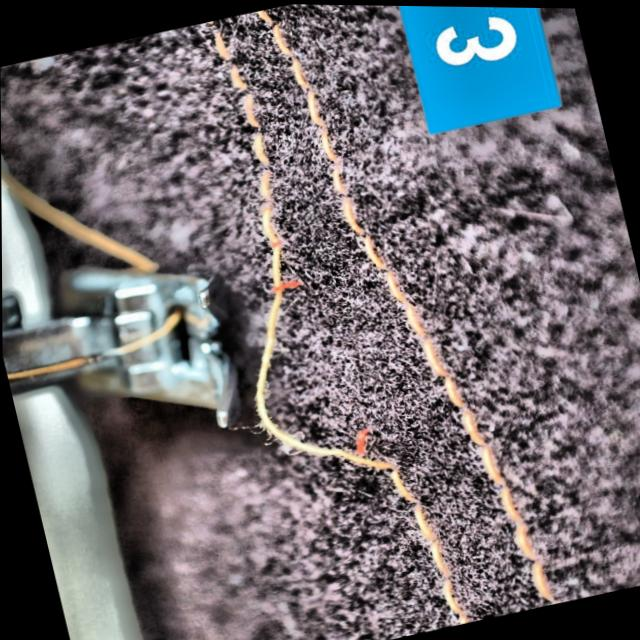Stitch: (211, 224, 442, 540)
